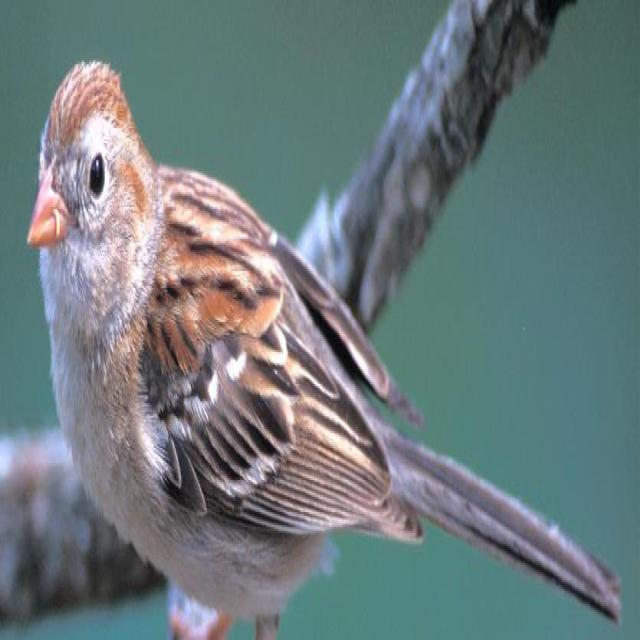Sparrow: (27, 56, 614, 623)
